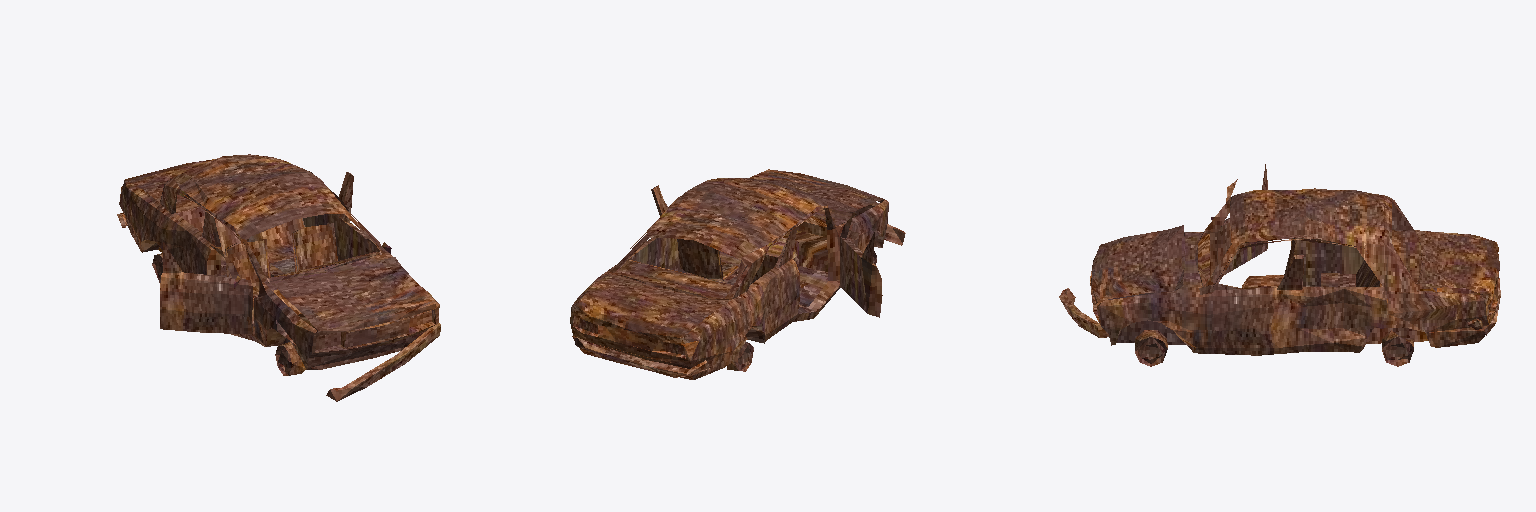
The picture shows the model from 3 angles: view 1: azimuth 30°, elevation 25°; view 2: azimuth 150°, elevation 25°; view 3: azimuth 270°, elevation 25°; orthographic projection.
Parts seen in each view (by area): view 1: car_scrap:Mesh; view 2: car_scrap:Mesh; view 3: car_scrap:Mesh.
Part boxes in pixels (x1,y1,x2,y2): car_scrap:Mesh: (117, 154, 440, 401); car_scrap:Mesh: (570, 169, 905, 379); car_scrap:Mesh: (1059, 164, 1500, 366).
Bounding box in the file's own units: 86.51 × 49.92 × 157.
Materials: 1 (1 with a texture image).